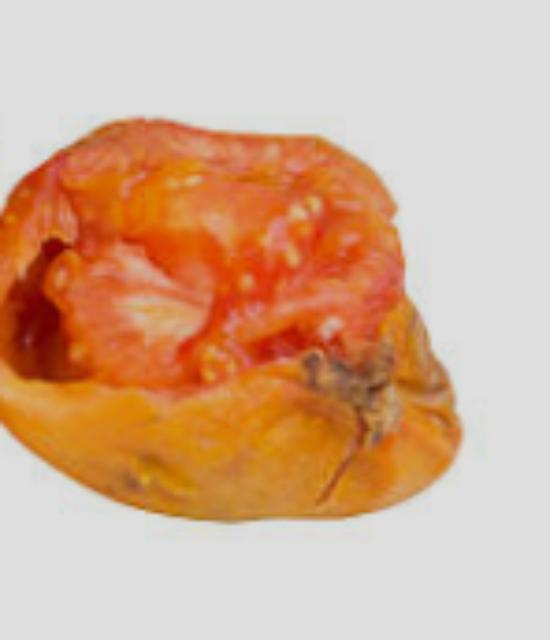defect: (0, 113, 468, 526)
